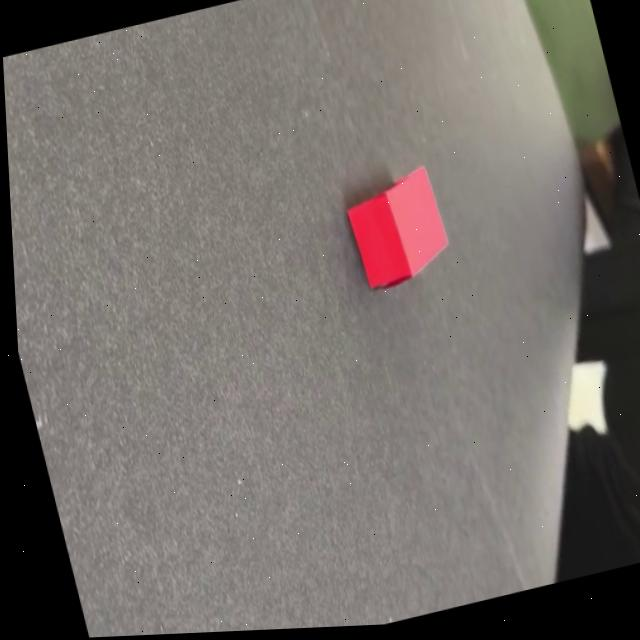red block: (339, 163, 458, 295)
